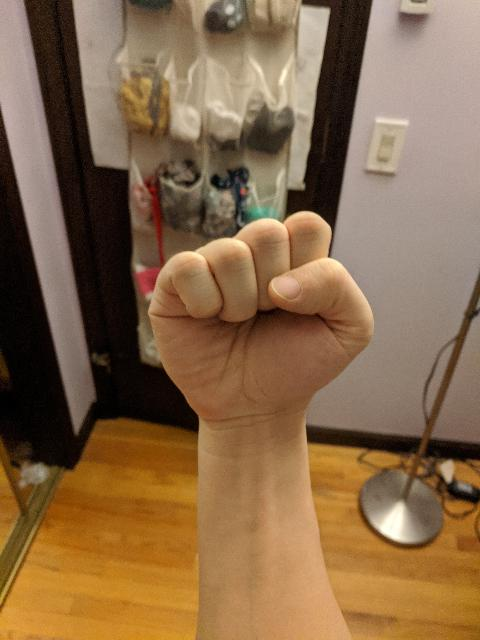S: (144, 206, 380, 430)
